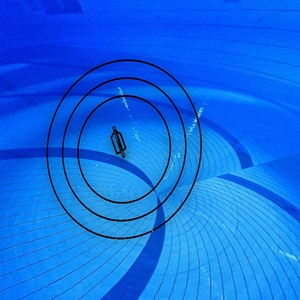circle: (32, 52, 215, 240)
submarine: (103, 126, 136, 162)
